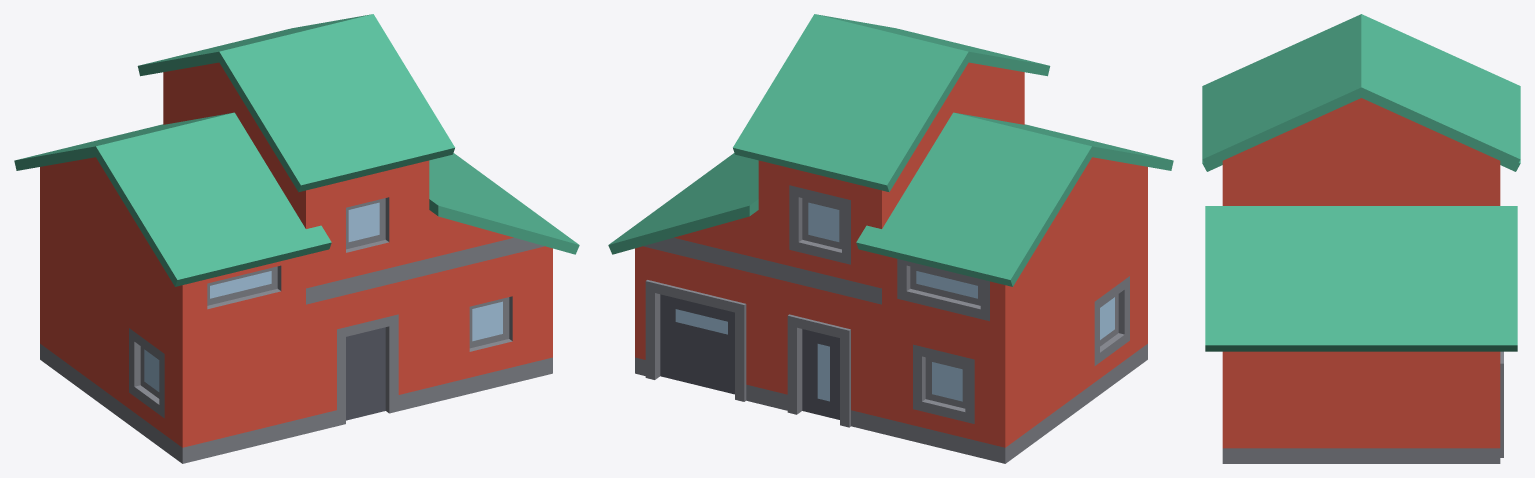
Rendered from house_type14.dae.
3 renders of one model, left to right at view 1: azimuth 30°, elevation 25°; view 2: azimuth 150°, elevation 25°; view 3: azimuth 270°, elevation 25°, orthographic. The views are drawn at different scales.
Parts seen in each view (by area): view 1: house_type14; view 2: house_type14; view 3: house_type14.
Part boxes in pixels (x1,y1,x2,y2): house_type14: (14, 14, 579, 463); house_type14: (608, 14, 1173, 463); house_type14: (1202, 14, 1520, 463).
Bounding box in the file's own units: 1.31 × 1.03 × 0.9163.
